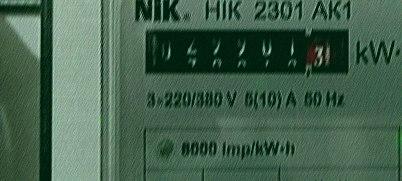0: (258, 32, 273, 57), (157, 38, 172, 60)
1: (285, 32, 297, 56)
2: (183, 33, 198, 55)
3: (310, 44, 325, 67)
9: (234, 34, 246, 57), (209, 33, 221, 54)
screen: (136, 21, 357, 83)
